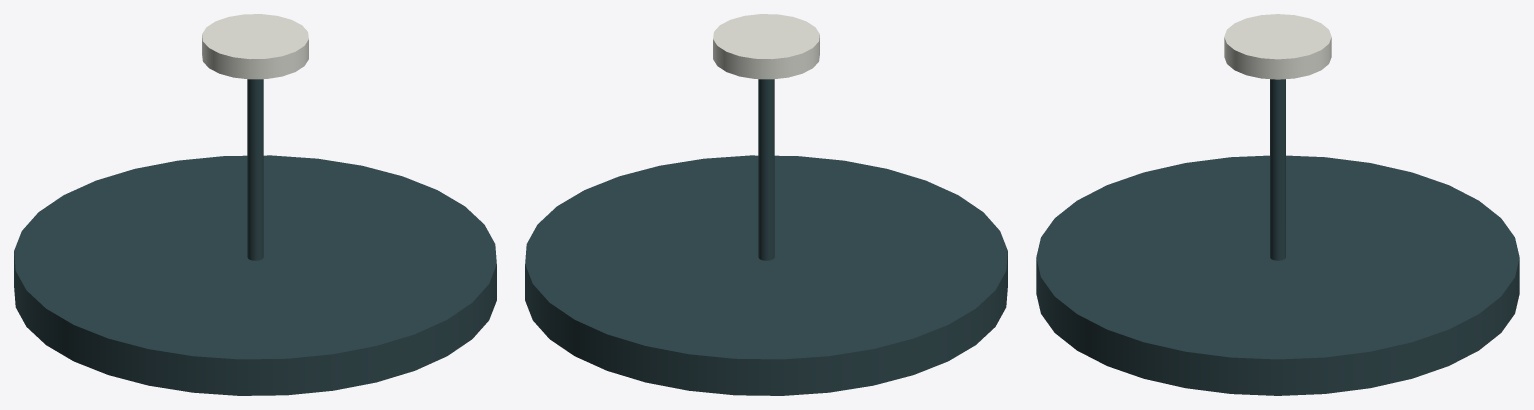
The model's file is ceiling_light.glb.
The picture shows the model from 3 angles, left to right: view 1: azimuth 30°, elevation 25°; view 2: azimuth 150°, elevation 25°; view 3: azimuth 270°, elevation 25°; orthographic projection.
Visible parts, largest first — view 1: fixture, ceiling-canopy, suspension-stem; view 2: fixture, ceiling-canopy, suspension-stem; view 3: fixture, ceiling-canopy, suspension-stem.
Part boxes in pixels (x1=…): fixture: x1=14, y1=155, x2=496, y2=395; ceiling-canopy: x1=202, y1=14, x2=308, y2=79; suspension-stem: x1=247, y1=79, x2=263, y2=260; fixture: x1=525, y1=155, x2=1007, y2=395; ceiling-canopy: x1=713, y1=14, x2=819, y2=79; suspension-stem: x1=758, y1=79, x2=774, y2=260; fixture: x1=1036, y1=155, x2=1519, y2=395; ceiling-canopy: x1=1224, y1=14, x2=1331, y2=79; suspension-stem: x1=1270, y1=79, x2=1285, y2=260.
Bounding box in the file's own units: 0.54 × 0.3275 × 0.54.
